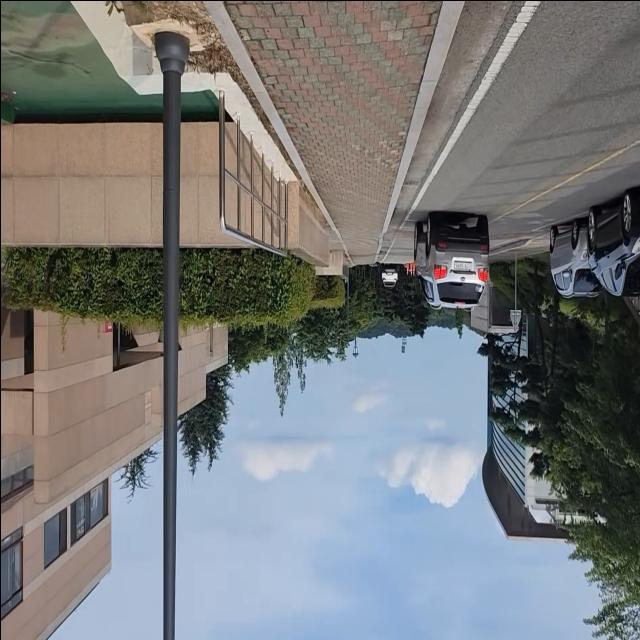obstacle: (147, 36, 191, 640), (543, 179, 640, 309), (410, 205, 496, 324), (379, 259, 399, 292)
road: (377, 0, 640, 261)
sidewalk: (203, 0, 464, 265)
